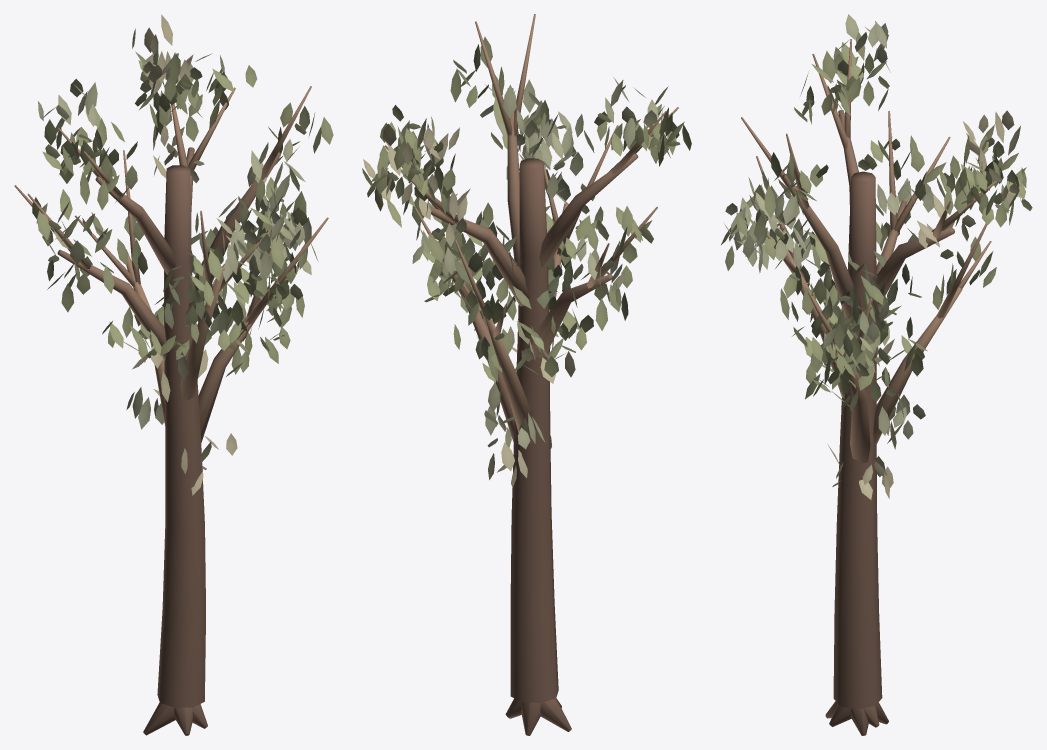
Rendered from tree_3d_02.glb.
The picture shows the model from 3 angles, left to right: view 1: azimuth 30°, elevation 25°; view 2: azimuth 150°, elevation 25°; view 3: azimuth 270°, elevation 25°; orthographic projection. The views are drawn at different scales.
Parts seen in each view (by area): view 1: tree_3d_02_foliage, tree_3d_02_wood; view 2: tree_3d_02_foliage, tree_3d_02_wood; view 3: tree_3d_02_foliage, tree_3d_02_wood.
Part boxes in pixels (bbox=[...]): tree_3d_02_foliage: bbox=[32, 14, 333, 495]; tree_3d_02_wood: bbox=[14, 86, 328, 735]; tree_3d_02_foliage: bbox=[362, 36, 691, 487]; tree_3d_02_wood: bbox=[384, 14, 678, 735]; tree_3d_02_foliage: bbox=[721, 14, 1032, 499]; tree_3d_02_wood: bbox=[741, 39, 997, 735].
Size of the model in its own units: 5.11 by 12.35 by 5.29.
